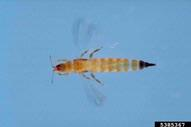Thrips: (35, 45, 163, 100)
